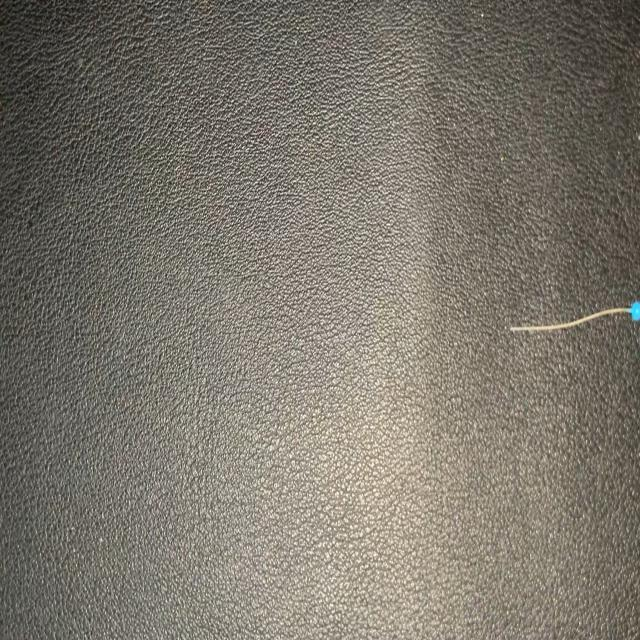resistor: (510, 286, 640, 334)
